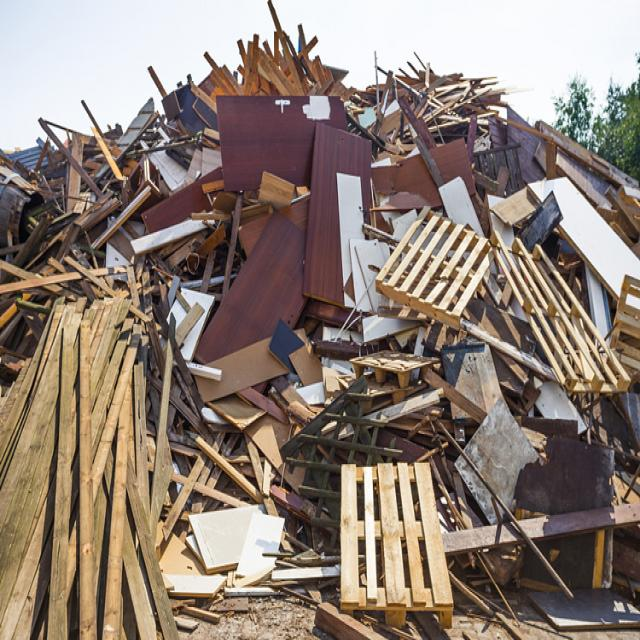green waste: (2, 32, 640, 636)
